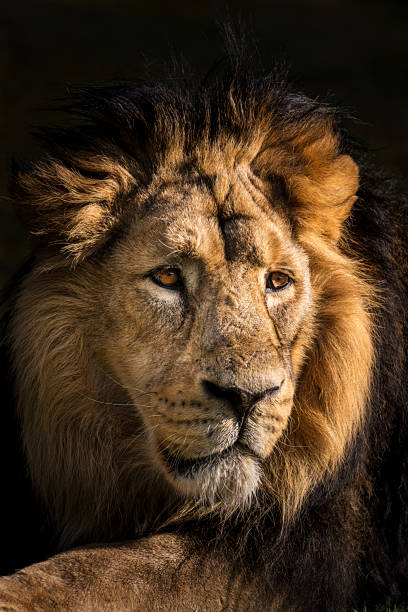lion: (14, 71, 399, 586)
